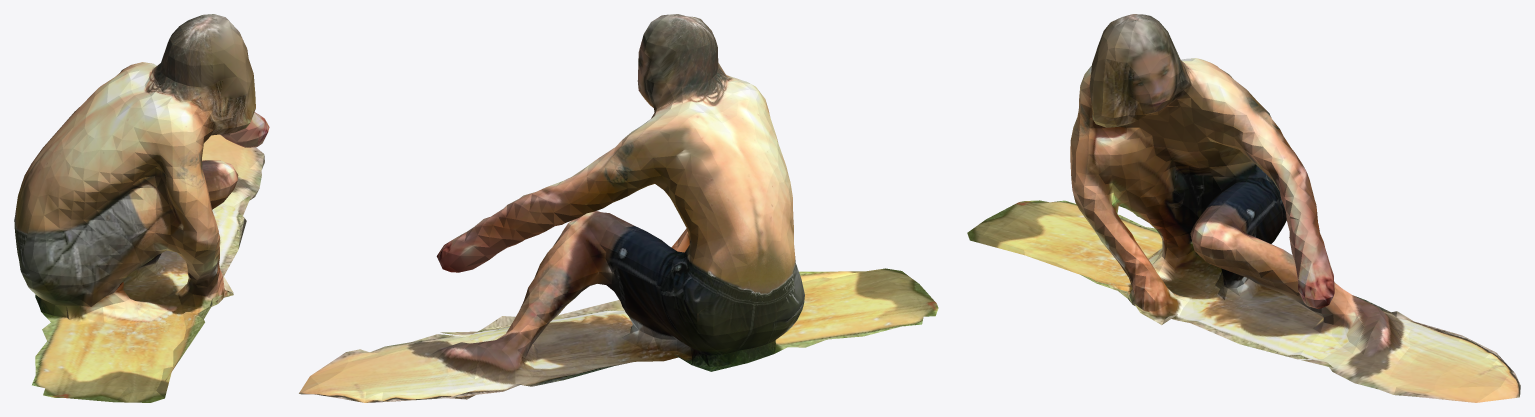
File: Surf.glb
The picture shows the model from 3 angles, left to right: view 1: azimuth 30°, elevation 25°; view 2: azimuth 150°, elevation 25°; view 3: azimuth 270°, elevation 25°; orthographic projection.
Visible parts, largest first — view 1: Mesh_0; view 2: Mesh_0; view 3: Mesh_0.
Part boxes in pixels (x1,y1,x2,y2): Mesh_0: (14,14,269,402); Mesh_0: (299,14,938,402); Mesh_0: (967,14,1520,402).
Size of the model in its own units: 1.28 by 0.8596 by 1.49.
Materials: 1 (1 with a texture image).
